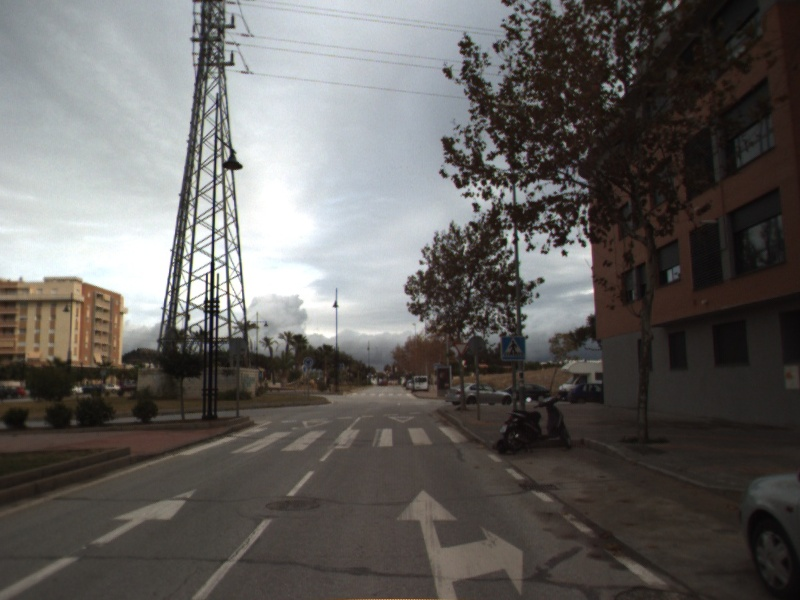STRAIGHT: (1, 487, 199, 600)
STRAIGHT_RIGHT: (395, 488, 525, 600)
